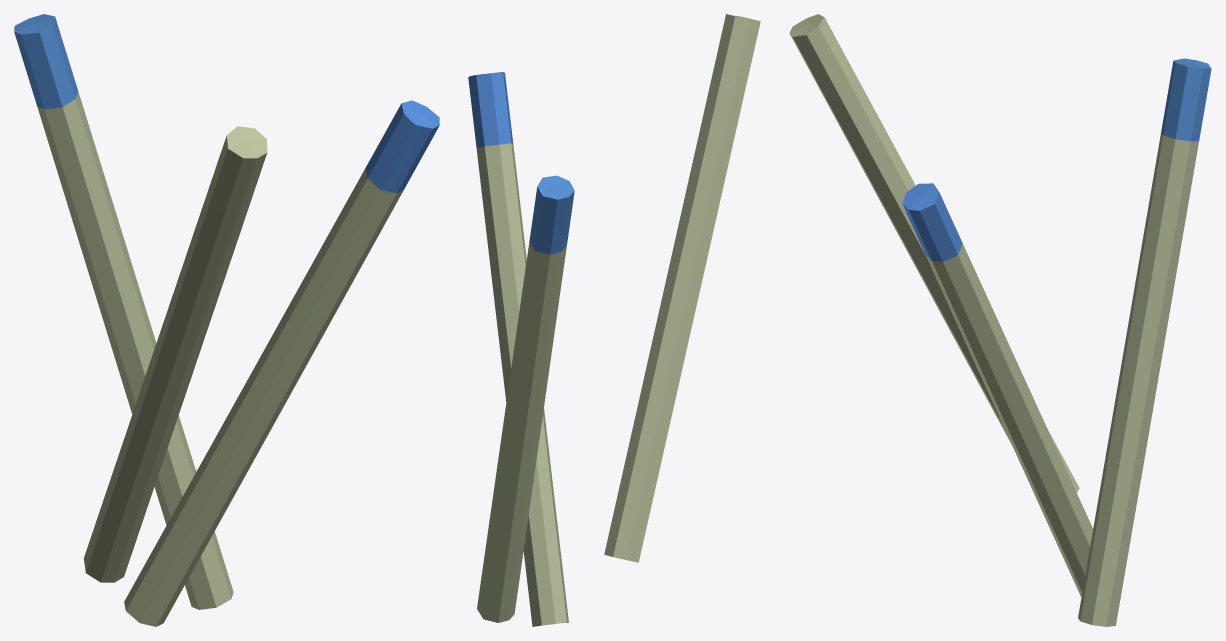
The model's file is Childrens_Room_Pensils.fbx.
3 views of the same model, side by side, from view 1: azimuth 30°, elevation 25°; view 2: azimuth 150°, elevation 25°; view 3: azimuth 270°, elevation 25° (orthographic). The views are drawn at different scales.
Parts seen in each view (by area): view 1: Childrens_Room_Pensils; view 2: Childrens_Room_Pensils; view 3: Childrens_Room_Pensils.
Part boxes in pixels (box(x1,y1,x2,y2)): Childrens_Room_Pensils: box(14, 14, 439, 626); Childrens_Room_Pensils: box(468, 14, 760, 626); Childrens_Room_Pensils: box(789, 14, 1211, 626).
Size of the model in its own units: 14.12 by 30.58 by 21.1.
